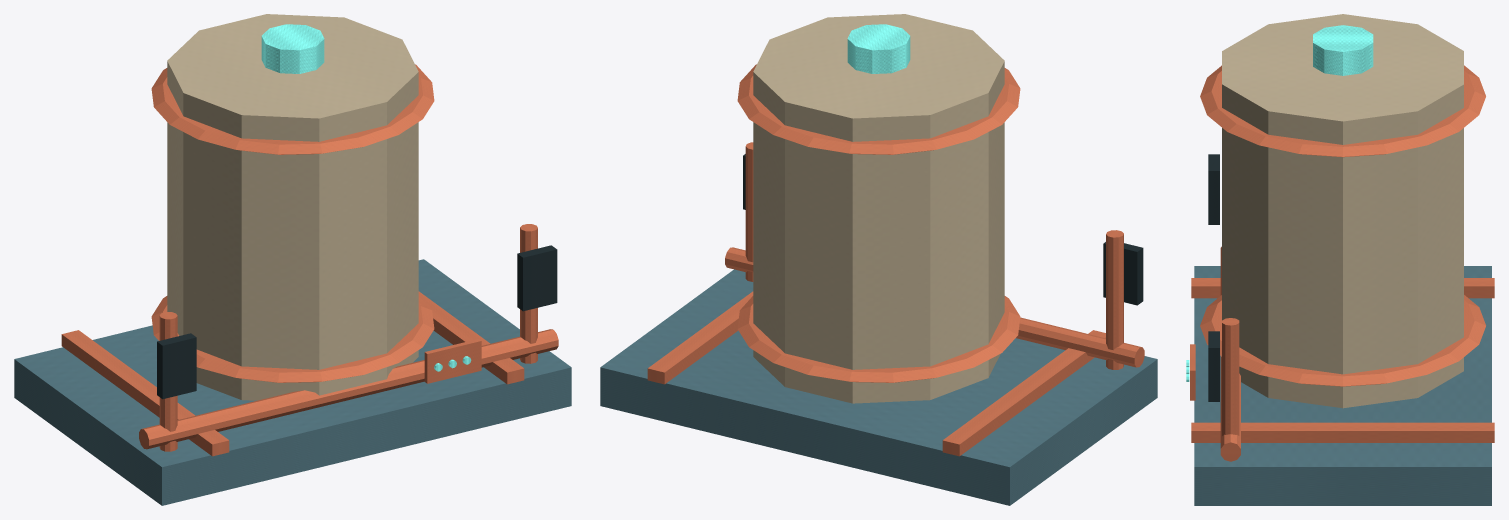
The model's file is atlas100-s050-a01.glb.
3 views of the same model, side by side, from view 1: azimuth 30°, elevation 25°; view 2: azimuth 150°, elevation 25°; view 3: azimuth 270°, elevation 25° (orthographic).
Parts seen in each view (by area): view 1: atlas100-s050-a01:part-003, atlas100-s050-a01:part-000, atlas100-s050-a01:part-011, atlas100-s050-a01:part-005, atlas100-s050-a01:part-004, atlas100-s050-a01:part-001, atlas100-s050-a01:part-006, atlas100-s050-a01:part-010, atlas100-s050-a01:part-008, atlas100-s050-a01:part-002, atlas100-s050-a01:part-012, atlas100-s050-a01:part-007 (+1 smaller); view 2: atlas100-s050-a01:part-003, atlas100-s050-a01:part-000, atlas100-s050-a01:part-005, atlas100-s050-a01:part-004, atlas100-s050-a01:part-001, atlas100-s050-a01:part-011, atlas100-s050-a01:part-006, atlas100-s050-a01:part-002, atlas100-s050-a01:part-007, atlas100-s050-a01:part-008, atlas100-s050-a01:part-009; view 3: atlas100-s050-a01:part-003, atlas100-s050-a01:part-000, atlas100-s050-a01:part-002, atlas100-s050-a01:part-005, atlas100-s050-a01:part-004, atlas100-s050-a01:part-006, atlas100-s050-a01:part-009, atlas100-s050-a01:part-001, atlas100-s050-a01:part-011, atlas100-s050-a01:part-008, atlas100-s050-a01:part-010.
Part boxes in pixels (bbox=[...]): atlas100-s050-a01:part-003: bbox=[167, 14, 418, 400]; atlas100-s050-a01:part-000: bbox=[14, 259, 571, 505]; atlas100-s050-a01:part-011: bbox=[139, 329, 558, 449]; atlas100-s050-a01:part-005: bbox=[151, 64, 434, 154]; atlas100-s050-a01:part-004: bbox=[151, 296, 434, 382]; atlas100-s050-a01:part-001: bbox=[61, 330, 229, 456]; atlas100-s050-a01:part-006: bbox=[261, 24, 324, 73]; atlas100-s050-a01:part-010: bbox=[517, 245, 557, 311]; atlas100-s050-a01:part-008: bbox=[157, 333, 196, 399]; atlas100-s050-a01:part-002: bbox=[418, 291, 524, 384]; atlas100-s050-a01:part-012: bbox=[424, 339, 481, 383]; atlas100-s050-a01:part-007: bbox=[159, 312, 177, 451]; atlas100-s050-a01:part-003: bbox=[753, 14, 1004, 403]; atlas100-s050-a01:part-000: bbox=[600, 269, 1157, 505]; atlas100-s050-a01:part-005: bbox=[737, 64, 1020, 154]; atlas100-s050-a01:part-004: bbox=[737, 296, 1020, 382]; atlas100-s050-a01:part-001: bbox=[942, 330, 1105, 456]; atlas100-s050-a01:part-011: bbox=[725, 247, 1144, 367]; atlas100-s050-a01:part-006: bbox=[847, 24, 910, 73]; atlas100-s050-a01:part-002: bbox=[647, 291, 753, 384]; atlas100-s050-a01:part-007: bbox=[1106, 230, 1123, 369]; atlas100-s050-a01:part-008: bbox=[1103, 242, 1143, 305]; atlas100-s050-a01:part-009: bbox=[745, 142, 753, 281]; atlas100-s050-a01:part-003: bbox=[1222, 14, 1463, 408]; atlas100-s050-a01:part-000: bbox=[1194, 266, 1491, 505]; atlas100-s050-a01:part-002: bbox=[1191, 422, 1494, 442]; atlas100-s050-a01:part-005: bbox=[1200, 65, 1485, 157]; atlas100-s050-a01:part-004: bbox=[1200, 295, 1485, 386]; atlas100-s050-a01:part-006: bbox=[1313, 25, 1373, 75]; atlas100-s050-a01:part-009: bbox=[1222, 318, 1239, 435]; atlas100-s050-a01:part-001: bbox=[1191, 278, 1494, 298]; atlas100-s050-a01:part-011: bbox=[1220, 246, 1240, 461]; atlas100-s050-a01:part-008: bbox=[1208, 154, 1219, 224]; atlas100-s050-a01:part-010: bbox=[1208, 331, 1219, 401].
Bounding box in the file's own units: 2.88 × 2.45 × 1.87.
Materials: 5 (5 with a texture image).
